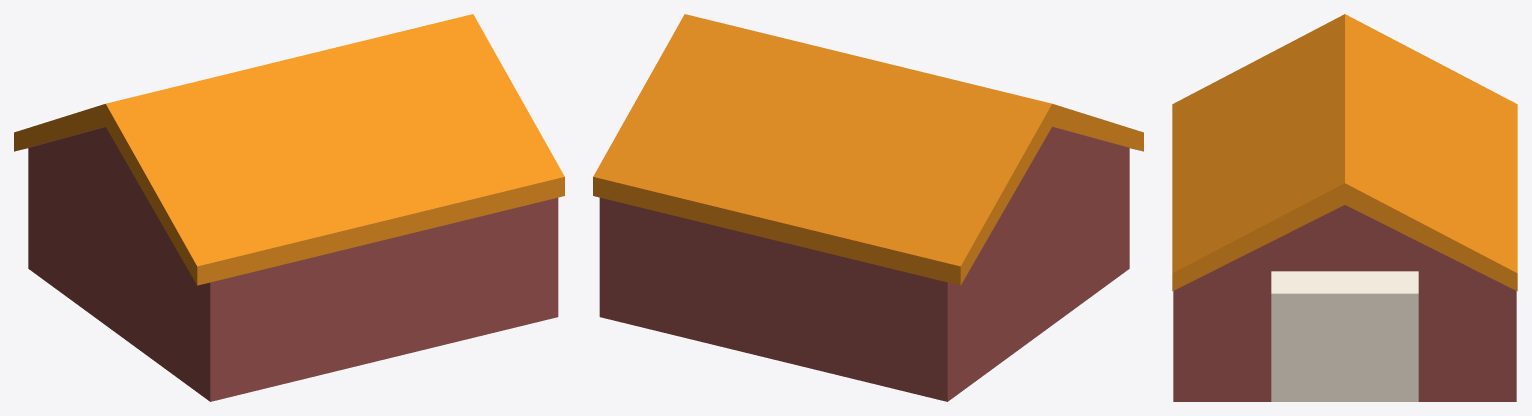
File: StorageMedium.fbx
The picture shows the model from 3 angles, left to right: view 1: azimuth 30°, elevation 25°; view 2: azimuth 150°, elevation 25°; view 3: azimuth 270°, elevation 25°; orthographic projection. The views are drawn at different scales.
Parts seen in each view (by area): view 1: StorageMedium; view 2: StorageMedium; view 3: StorageMedium.
Boxes of the visible parts, x1=… form: StorageMedium: x1=14, y1=14, x2=564, y2=401; StorageMedium: x1=593, y1=14, x2=1143, y2=401; StorageMedium: x1=1172, y1=14, x2=1517, y2=401.
Size of the model in its own units: 103 by 60.64 by 85.65.
